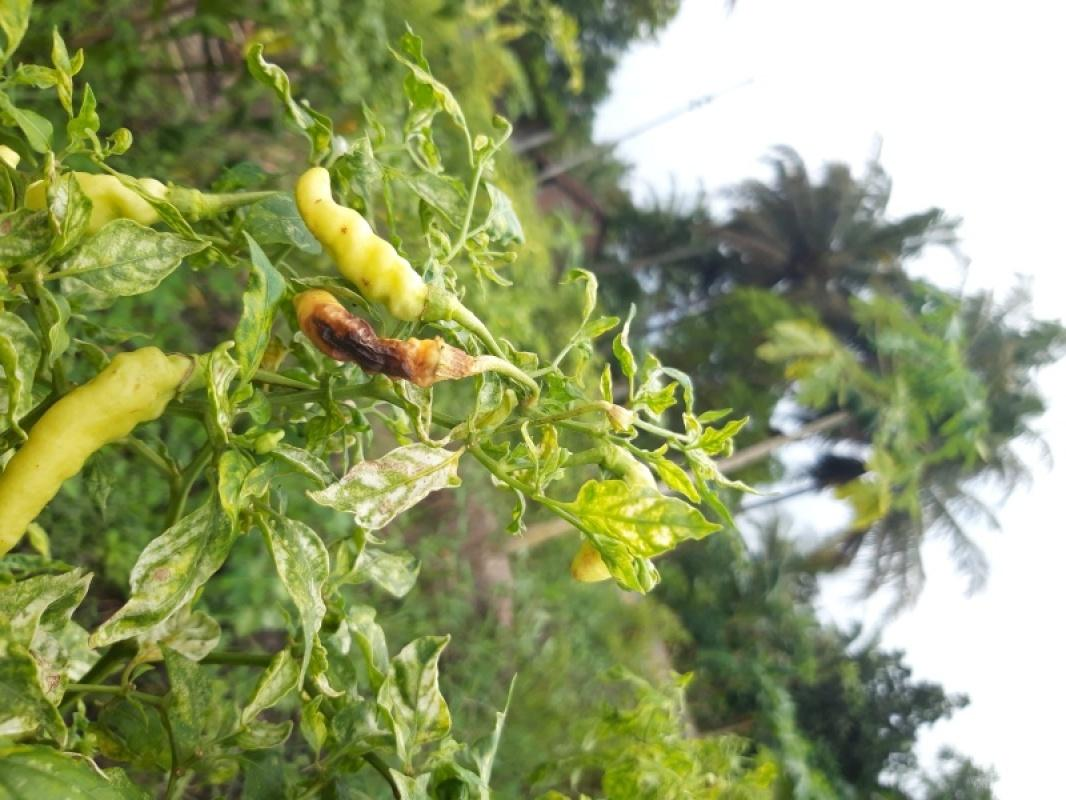antraknosa: (289, 286, 453, 389)
cabai_normal: (2, 346, 177, 561), (297, 167, 428, 323), (25, 169, 167, 236)
